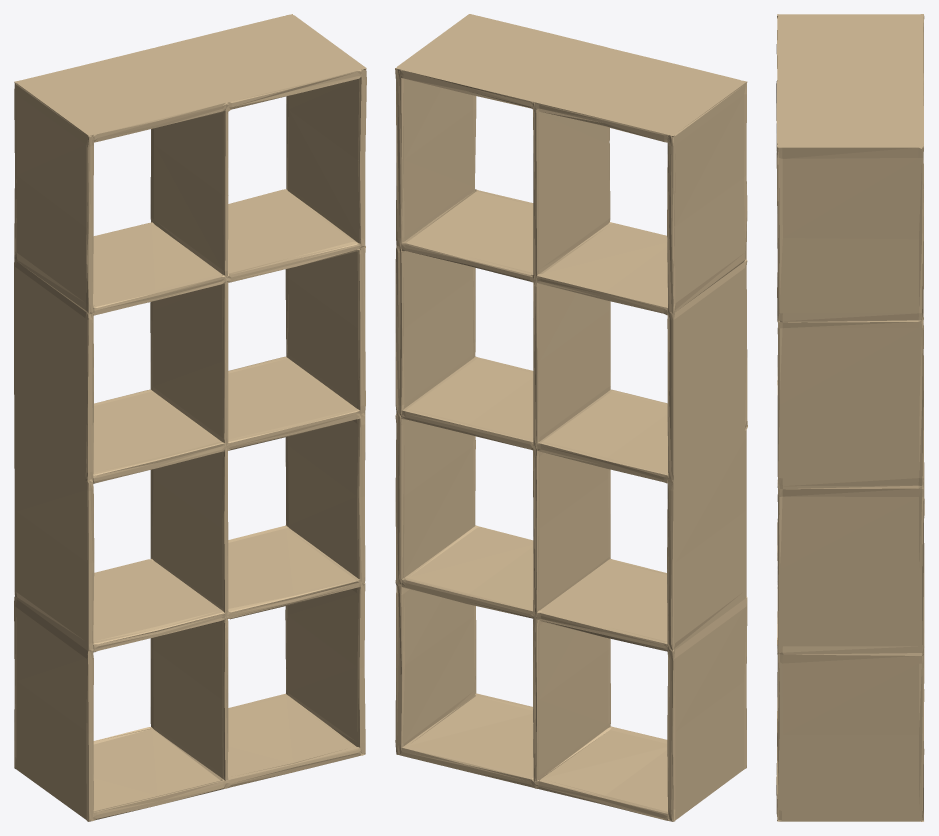
File: gen-shelving-cube-2x4-1.glb
3 renders of one model, left to right at view 1: azimuth 30°, elevation 25°; view 2: azimuth 150°, elevation 25°; view 3: azimuth 270°, elevation 25°, orthographic.
Visible parts, largest first — view 1: gen-shelving-cube-2x4-1_part1; view 2: gen-shelving-cube-2x4-1_part1; view 3: gen-shelving-cube-2x4-1_part1.
Boxes of the visible parts, x1=… form: gen-shelving-cube-2x4-1_part1: x1=14, y1=14, x2=366, y2=821; gen-shelving-cube-2x4-1_part1: x1=395, y1=14, x2=747, y2=821; gen-shelving-cube-2x4-1_part1: x1=776, y1=14, x2=924, y2=821.
Size of the model in its own units: 626 by 1470 by 293.
